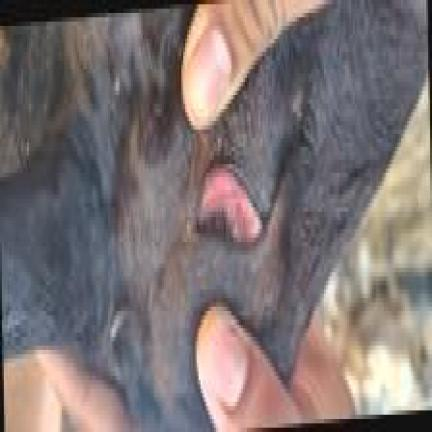goat-eye-anemia-22222222: (197, 160, 293, 276)
